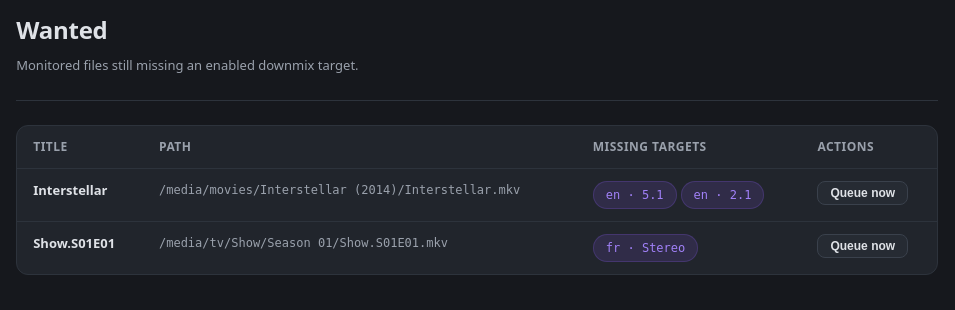
WantedPage › "Queue now" action (COL-195) › shows a hint notice, not an error, when the file was skipped (enqueued: false)
Click the button "Queue now" in the row of "/media/tv/Show/Season 01/Show.S01E01.mkv": x=863, y=246 [818,234,908,258]
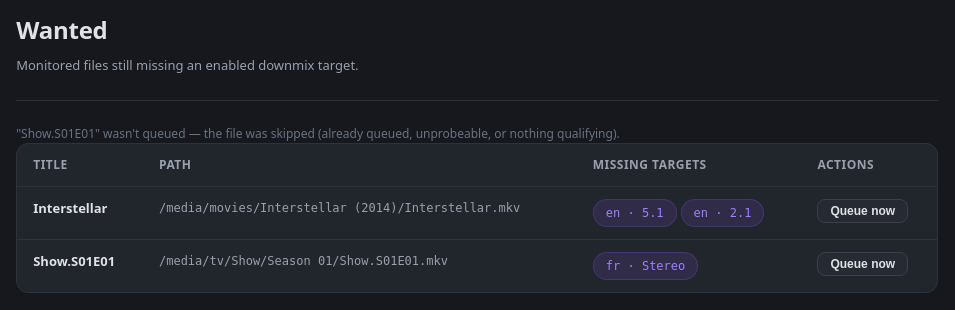
Expected: the text "\"Show.S01E01\" wasn't queued — the file was skipped" is shown, [16,124,620,142]
